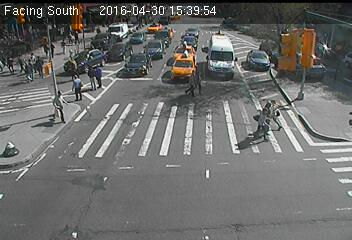neg: (69, 159, 105, 208), (186, 153, 211, 186), (151, 32, 172, 60), (6, 135, 27, 163), (145, 127, 165, 152), (272, 46, 289, 68), (212, 37, 226, 56)
pos: (267, 97, 291, 128), (51, 89, 73, 118), (255, 110, 276, 138), (184, 68, 204, 96), (68, 71, 87, 98), (80, 63, 97, 85), (95, 66, 111, 87), (58, 35, 72, 54), (22, 63, 35, 80), (7, 54, 19, 71), (47, 41, 58, 55)
